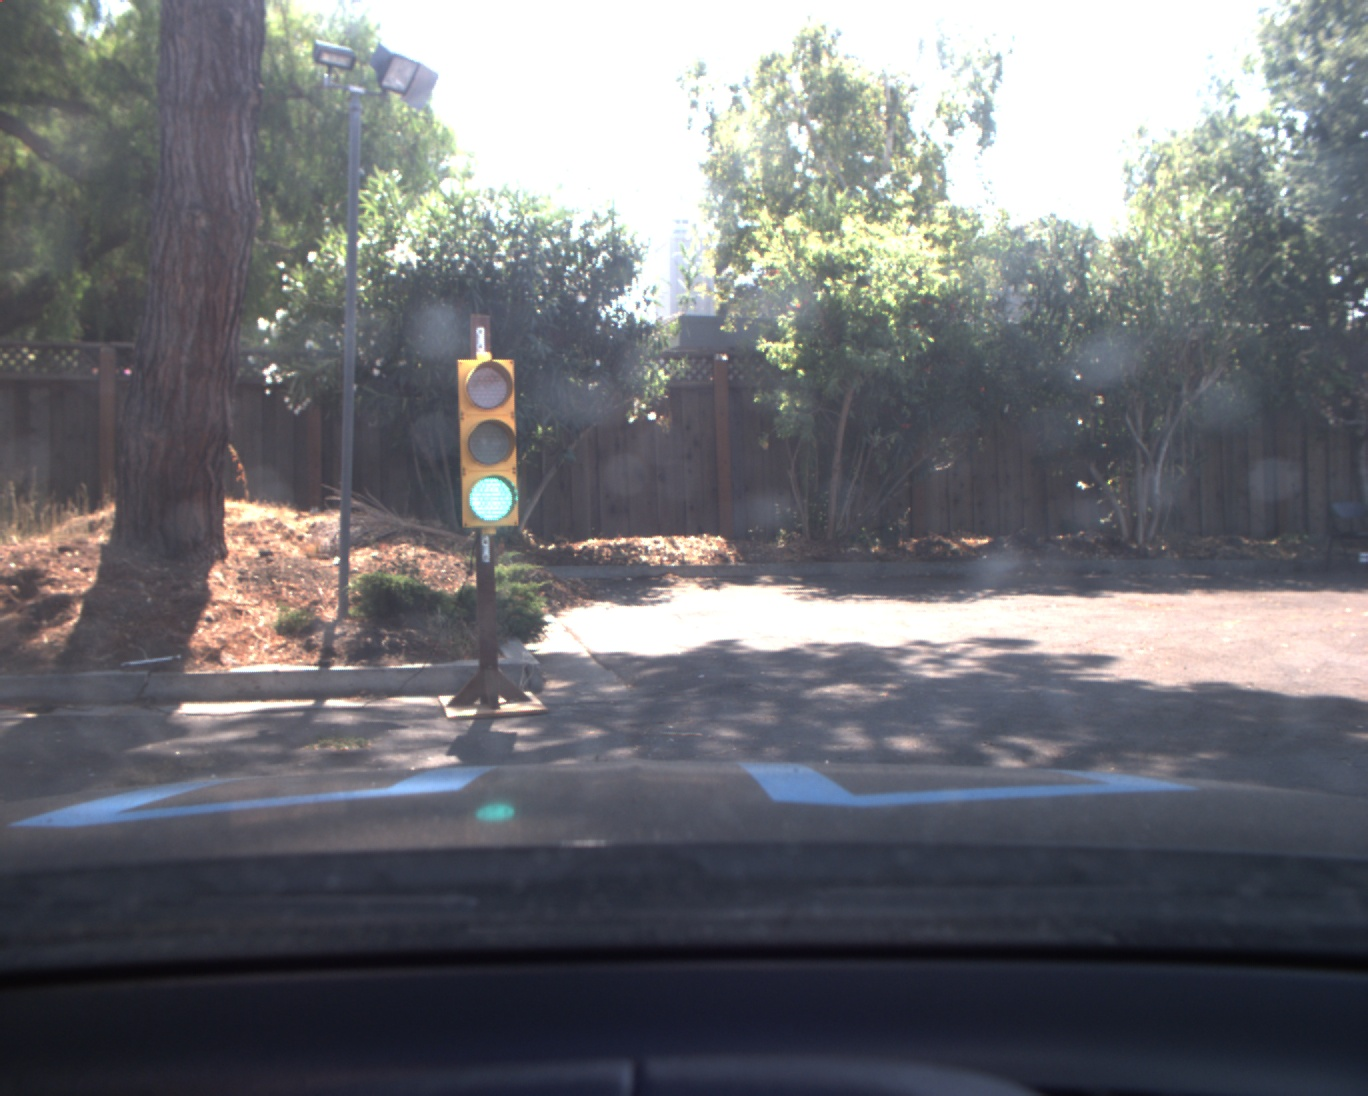green: (457, 358, 518, 528)
